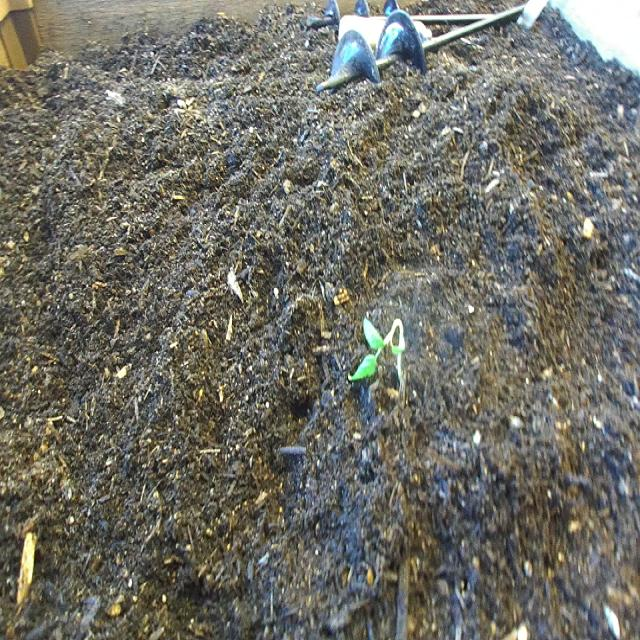Unhealthy: (349, 307, 414, 403)
